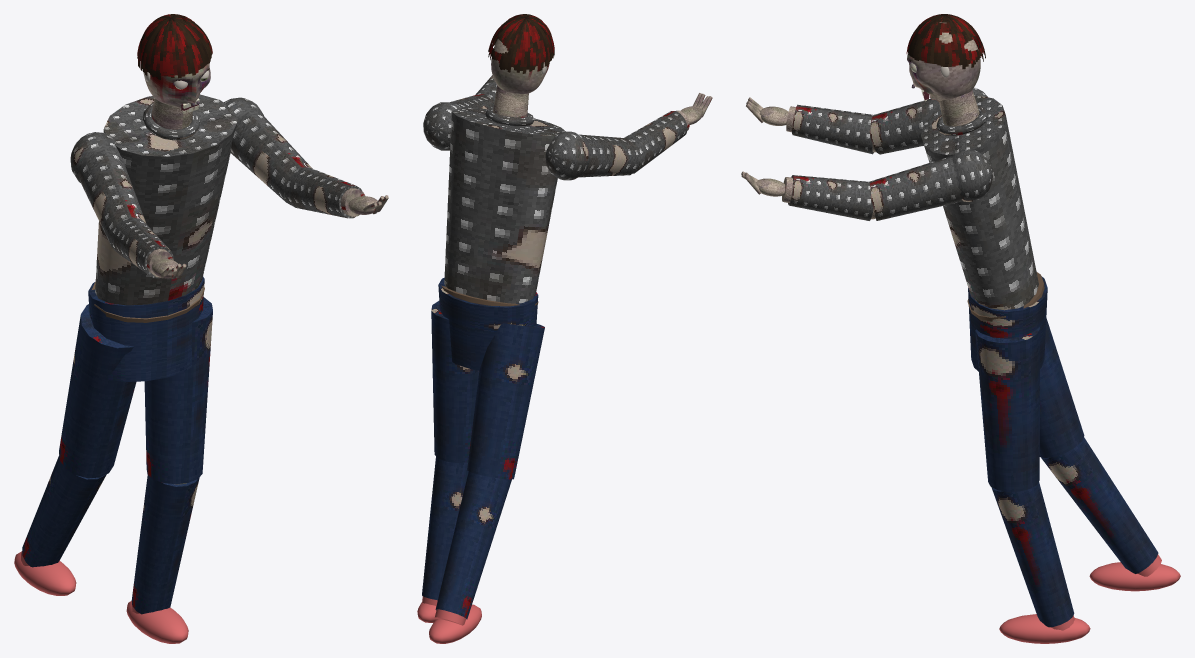
File: Zombie_075.glb
3 renders of one model, left to right at view 1: azimuth 30°, elevation 25°; view 2: azimuth 150°, elevation 25°; view 3: azimuth 270°, elevation 25°, orthographic. The views are drawn at different scales.
Parts seen in each view (by area): view 1: Zombie_075, object 45, object 12, object 4, object 18; view 2: Zombie_075, object 45, object 4, object 18; view 3: Zombie_075, object 12, object 4, object 45, object 18.
Boxes of the visible parts, box(x1,y1,x2,y2) form: Zombie_075: box(14, 94, 312, 643); object 45: box(137, 14, 212, 78); object 12: box(284, 167, 362, 218); object 4: box(110, 217, 173, 278); object 18: box(143, 63, 210, 108); Zombie_075: box(417, 85, 640, 643); object 45: box(488, 14, 554, 71); object 4: box(624, 111, 687, 173); object 18: box(491, 39, 549, 93); Zombie_075: box(869, 87, 1180, 643); object 12: box(788, 175, 873, 220); object 4: box(792, 104, 873, 154); object 45: box(906, 14, 985, 66); object 18: box(907, 22, 980, 102).
Bounding box in the file's own units: 0.681 × 1.97 × 1.29.
Materials: 16 (6 with a texture image).
